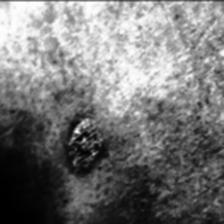Potentially Malignant Skin Tumors: (61, 124, 117, 176)
